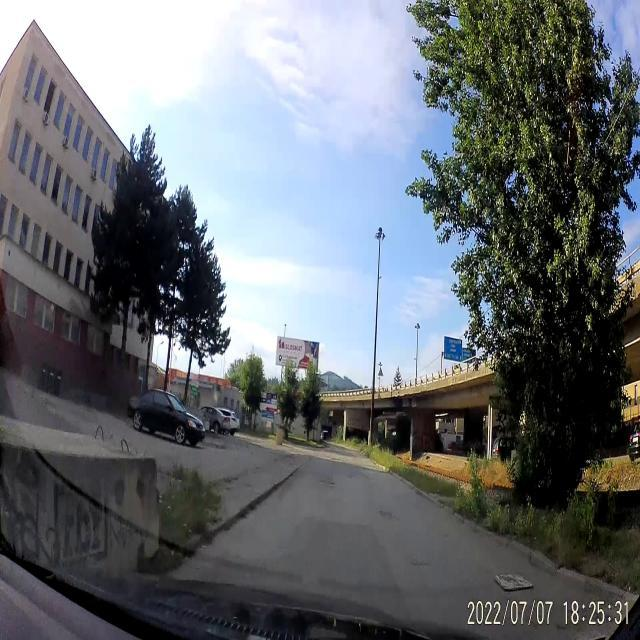Manhole: (492, 572, 536, 592)
Pothole: (316, 476, 339, 491), (378, 506, 396, 522), (408, 558, 433, 568)
